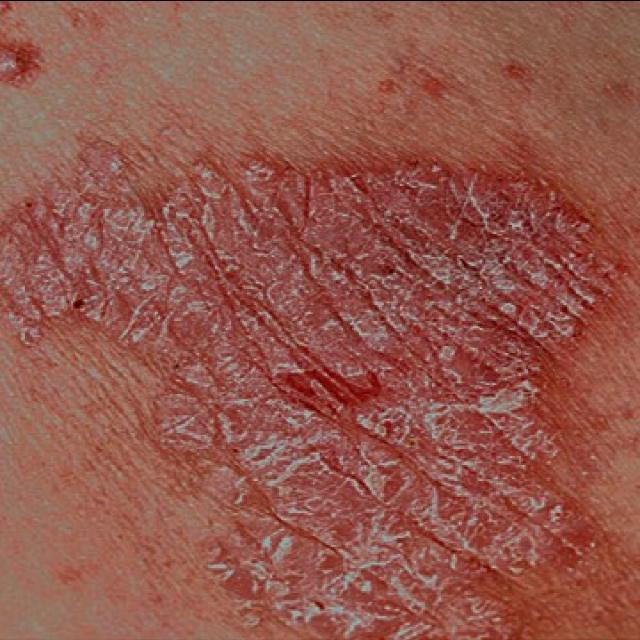Psoriasis: (0, 122, 626, 638), (0, 27, 48, 92)
